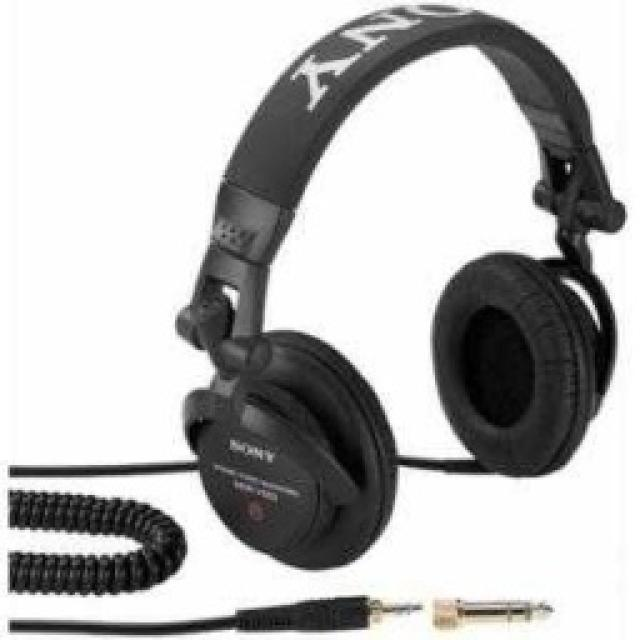headphones: (173, 0, 625, 570)
